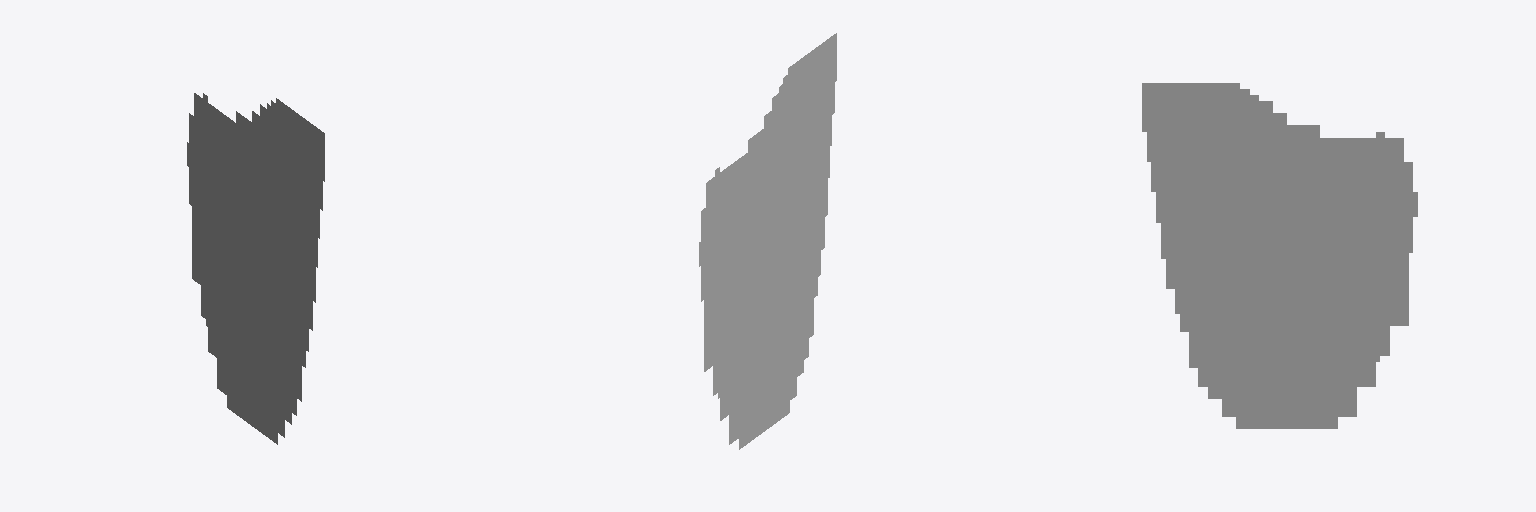
The model's file is glass_for_microwave.obj.
3 views of the same model, side by side, from view 1: azimuth 30°, elevation 25°; view 2: azimuth 150°, elevation 25°; view 3: azimuth 270°, elevation 25° (orthographic).
Visible parts, largest first — view 1: obj1; view 2: obj1; view 3: obj1.
Part boxes in pixels (left/top/right/bottom): obj1: left=187, top=93, right=324, bottom=444; obj1: left=699, top=33, right=836, bottom=449; obj1: left=1142, top=83, right=1417, bottom=428.
Bounding box in the file's own units: 0 × 3.47 × 2.51.